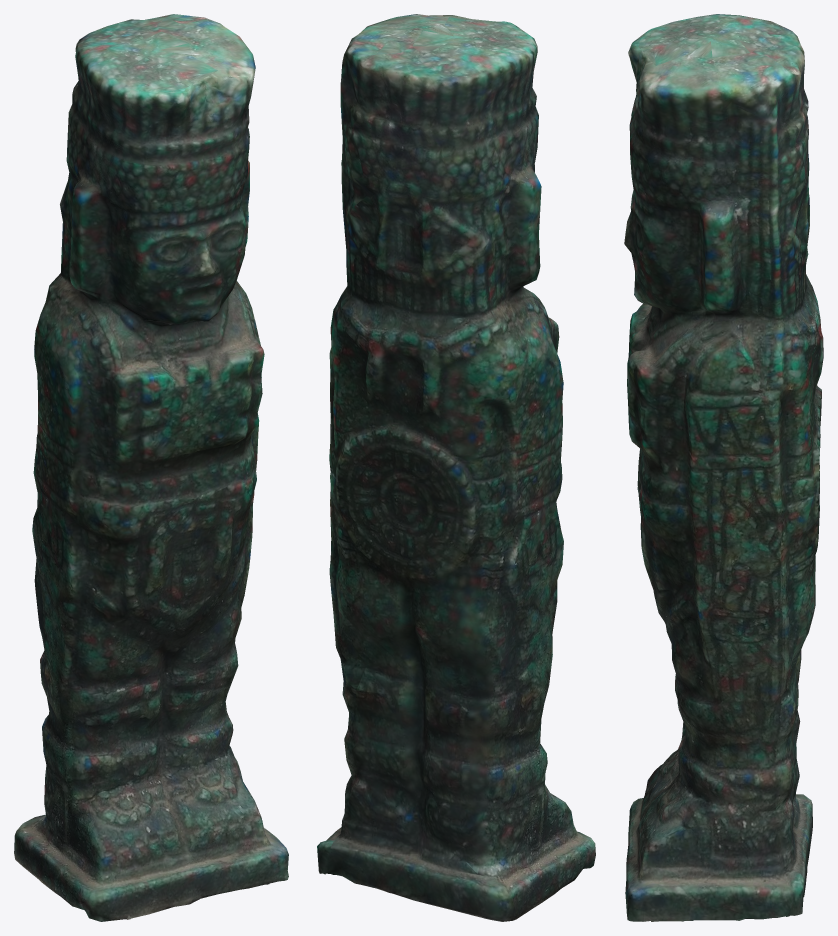
Rendered from atlantean.gltf.
3 views of the same model, side by side, from view 1: azimuth 30°, elevation 25°; view 2: azimuth 150°, elevation 25°; view 3: azimuth 270°, elevation 25° (orthographic).
Parts seen in each view (by area): view 1: atlantean; view 2: atlantean; view 3: atlantean.
Boxes of the visible parts, box(x1,y1,x2,y2) form: atlantean: box(14, 14, 288, 921); atlantean: box(317, 14, 595, 921); atlantean: box(624, 14, 823, 921).
Bounding box in the file's own units: 0.9213 × 3.6 × 0.7755.
1 material, 1 textured.
